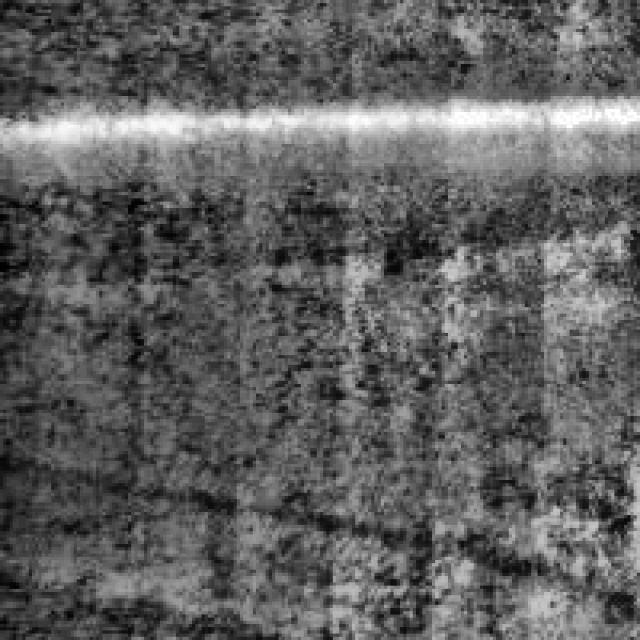Inclusion: (3, 84, 634, 166)
